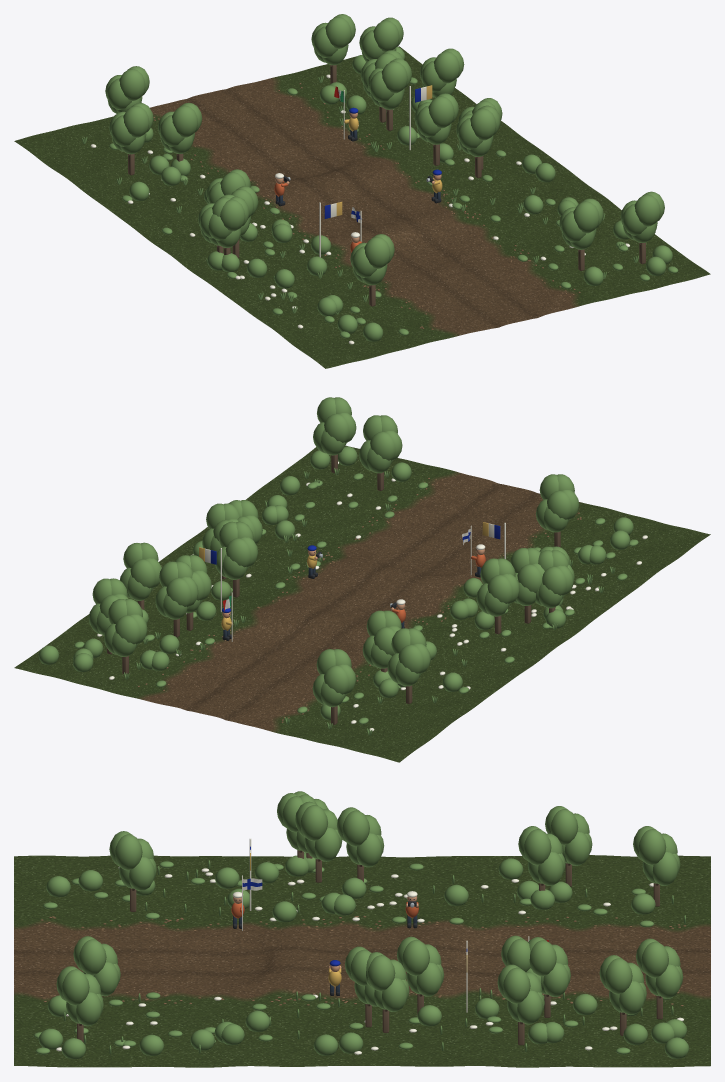
Rendered from environment.glb.
The picture shows the model from 3 angles, top to bottom: view 1: azimuth 30°, elevation 25°; view 2: azimuth 150°, elevation 25°; view 3: azimuth 270°, elevation 25°; orthographic projection. The views are drawn at different scales.
Visible parts, largest first — view 1: terrain, clay_leaf_cluster, tree_trunk, clay_stone, gravel; view 2: terrain, clay_leaf_cluster, tree_trunk, clay_stone, gravel; view 3: terrain, clay_leaf_cluster, tree_trunk, clay_stone, gravel.
Boxes of the visible parts, x1,y1,x2,y2 form: terrain: [14, 46, 710, 368]; clay_leaf_cluster: [82, 14, 678, 341]; tree_trunk: [128, 65, 645, 306]; clay_stone: [91, 74, 629, 344]; gravel: [153, 83, 580, 329]; terrain: [14, 445, 710, 762]; clay_leaf_cluster: [38, 397, 638, 735]; tree_trunk: [107, 454, 560, 724]; clay_stone: [97, 461, 647, 731]; gravel: [137, 477, 581, 722]; terrain: [14, 855, 710, 1067]; clay_leaf_cluster: [33, 791, 689, 1059]; tree_trunk: [77, 850, 662, 1045]; clay_stone: [56, 838, 683, 1054]; gravel: [39, 916, 685, 1006].
Bounding box in the file's own units: 20 × 3.73 × 28.
15 materials, 1 textured.
